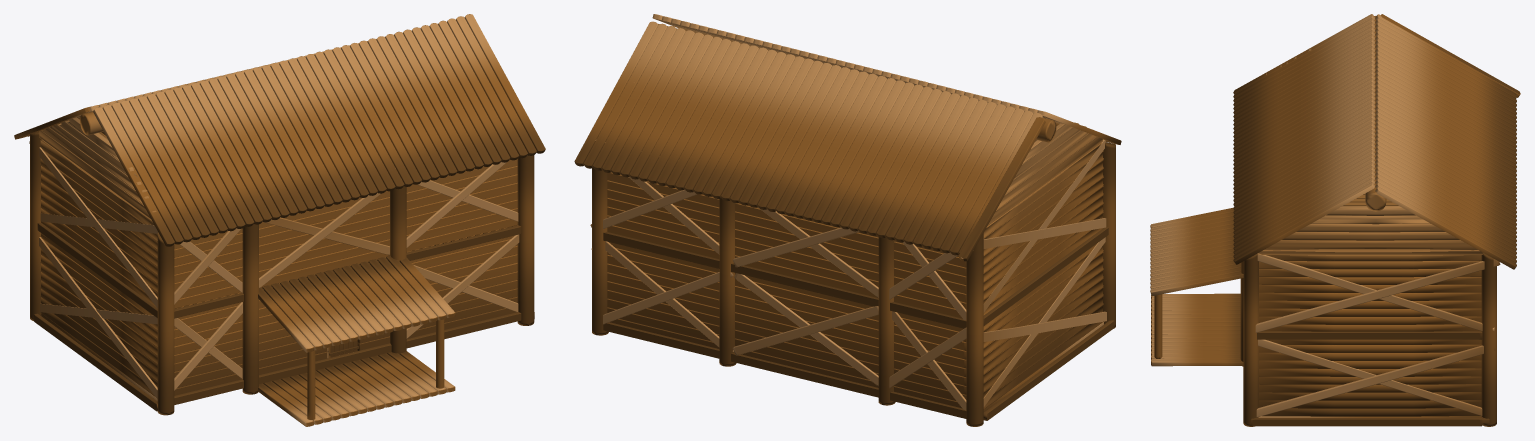
The model's file is house.fbx.
The picture shows the model from 3 angles, left to right: view 1: azimuth 30°, elevation 25°; view 2: azimuth 150°, elevation 25°; view 3: azimuth 270°, elevation 25°; orthographic projection. The views are drawn at different scales.
Visible parts, largest first — view 1: house.008, house, collum, house.001, house.003, house.011, house.015, house.019, house.014, house.010; view 2: house.010, house, house.001, collum, house.017, house.016, house.008, house.019, house.007; view 3: house, house.010, house.008, house.001, collum, house.003, house.011, house.019, house.007, house.013.
Boxes of the visible parts, x1,y1,x2,y2 form: house.008: [93, 14, 545, 246]; house: [39, 117, 517, 396]; collum: [30, 111, 534, 420]; house.001: [29, 141, 519, 398]; house.003: [258, 255, 455, 352]; house.011: [258, 351, 455, 426]; house.015: [174, 312, 521, 404]; house.019: [33, 222, 534, 411]; house.014: [174, 225, 521, 318]; house.010: [18, 32, 402, 138]; house.010: [574, 21, 1043, 255]; house: [595, 32, 1103, 409]; house.001: [590, 139, 1106, 409]; collum: [592, 24, 1115, 426]; house.017: [603, 322, 966, 418]; house.016: [603, 232, 966, 328]; house.008: [652, 14, 1121, 144]; house.019: [983, 227, 1114, 420]; house.007: [958, 117, 1045, 261]; house: [1258, 48, 1482, 416]; house.010: [1375, 14, 1516, 269]; house.008: [1233, 14, 1374, 264]; house.001: [1255, 253, 1500, 417]; collum: [1154, 16, 1496, 426]; house.003: [1150, 207, 1243, 296]; house.011: [1151, 293, 1243, 366]; house.019: [1251, 331, 1483, 426]; house.007: [1381, 14, 1520, 97]; house.013: [1258, 416, 1489, 423].
Size of the model in its own units: 1891 by 1215 by 1672.
